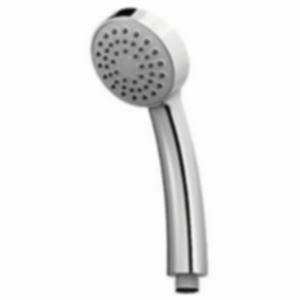Ducha: (78, 1, 255, 299)
